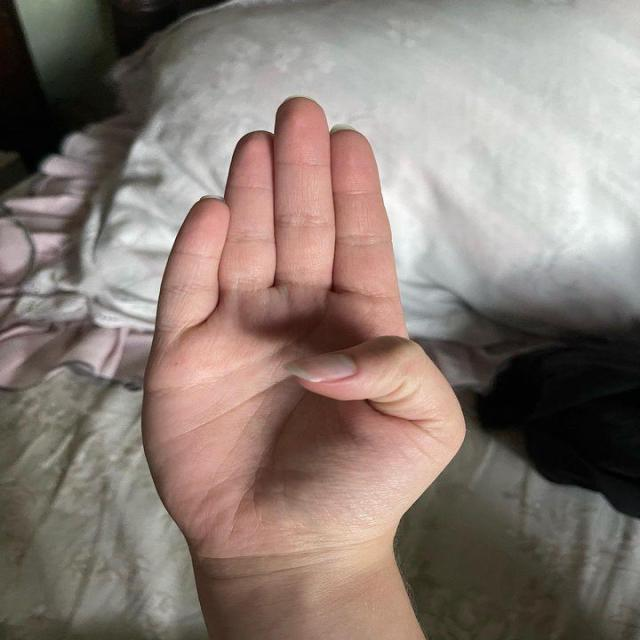B: (141, 90, 476, 571)
